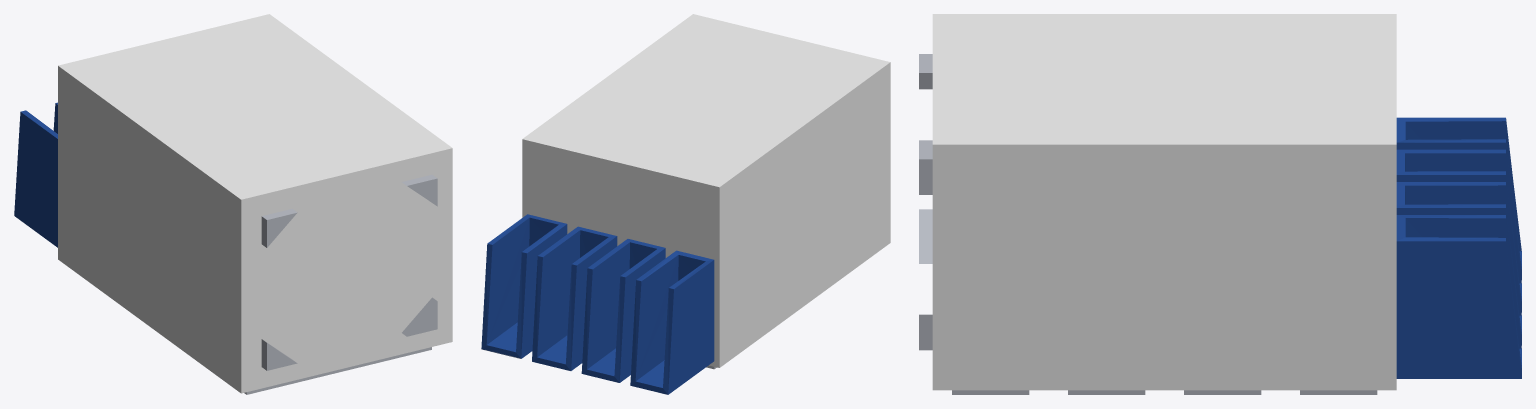
Rendered from Shelf.fbx.
The picture shows the model from 3 angles, left to right: view 1: azimuth 30°, elevation 25°; view 2: azimuth 150°, elevation 25°; view 3: azimuth 270°, elevation 25°; orthographic projection. The views are drawn at different scales.
Parts seen in each view (by area): view 1: Shelf; view 2: Shelf; view 3: Shelf.
Part boxes in pixels (<box>): Shelf: <box>14,14,452,394</box>; Shelf: <box>481,14,890,394</box>; Shelf: <box>919,14,1521,394</box>.
Bounding box in the file's own units: 80 × 75.97 × 156.
Materials: 1 (1 with a texture image).
